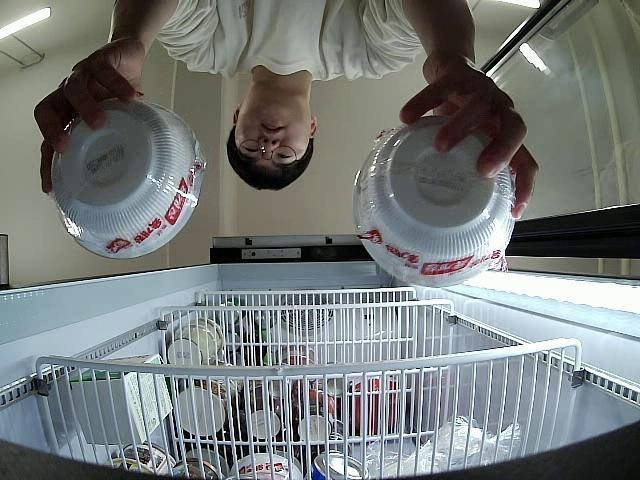09_yukGaeJang: (353, 116, 516, 289), (54, 98, 208, 260)
